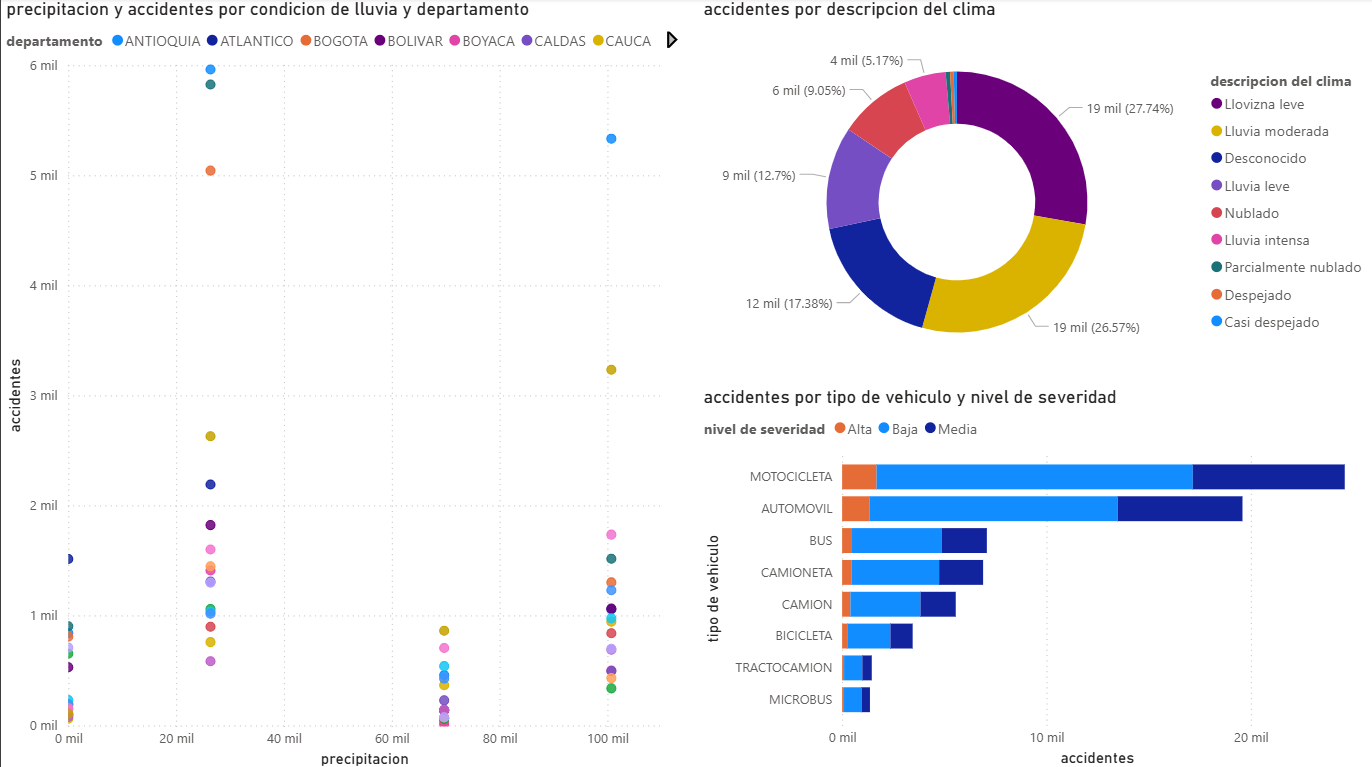

The dashboard page shown, as its layout file describes it:
{"tool":"powerbi","page":{"name":"Página 4","canvas":[1280,720],"ordinal":3},"visuals":[{"type":"scatterChart","fields":{"X":["Sum(dw dim_clima.precipitacion_mm)"],"Y":["Sum(dw fact_accidentes.cantidad)"],"Category":["dw dim_clima.condicion_lluvia"],"Series":["dw dim_ubicacion.departamento"]},"box":[0,0,639.5,720.4],"z":0},{"type":"donutChart","fields":{"Category":["dw dim_clima.descripcion_clima"],"Y":["Sum(dw fact_accidentes.cantidad)"]},"box":[649.1,0,631.2,360.9],"z":1000},{"type":"barChart","fields":{"Category":["dw dim_vehiculo.tipo_vehiculo"],"Y":["Sum(dw fact_accidentes.cantidad)"],"Series":["dw dim_gravedad.nivel_severidad"]},"box":[649,361,631,359],"z":2000}]}

Visuals, with their boxes in screenshot pixels (x1, y1, x2, y2), scaled from the page's 1280x720 canvas onto the 1372x767 screenshot:
scatterChart - Sum(dw dim_clima.precipitacion_mm) x Sum(dw fact_accidentes.cantidad): x1=0 y1=0 x2=685 y2=766
donutChart - dw dim_clima.descripcion_clima x Sum(dw fact_accidentes.cantidad): x1=696 y1=0 x2=1371 y2=384
barChart - dw dim_vehiculo.tipo_vehiculo x Sum(dw fact_accidentes.cantidad): x1=696 y1=385 x2=1371 y2=766
